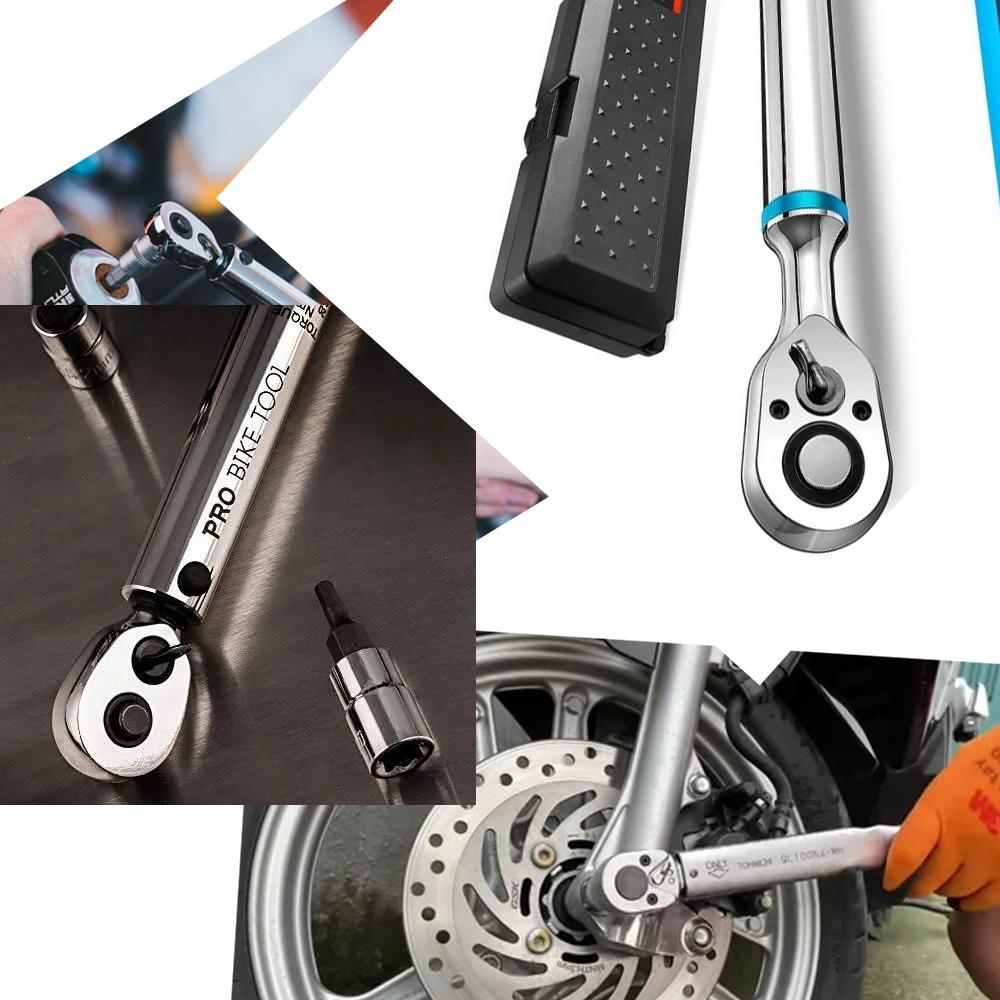Tool: (732, 308, 915, 559), (64, 610, 210, 782), (145, 203, 232, 276), (603, 853, 684, 919)
